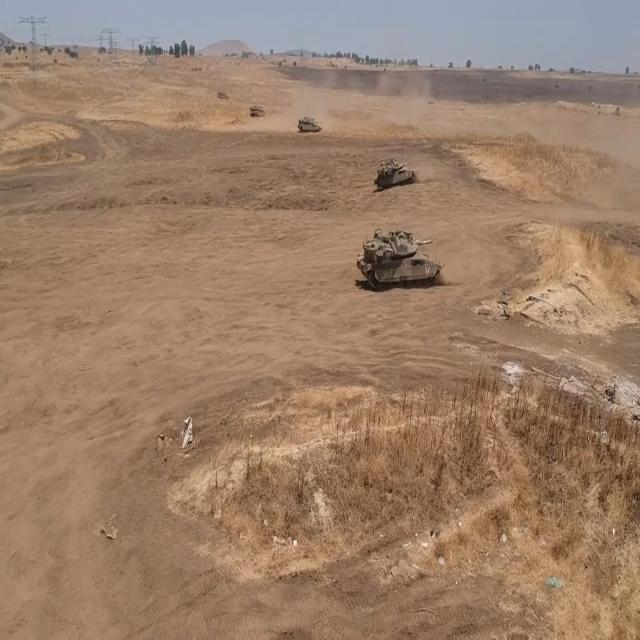tank: (355, 230, 446, 294), (372, 155, 414, 192), (294, 109, 322, 137), (248, 97, 268, 118)
